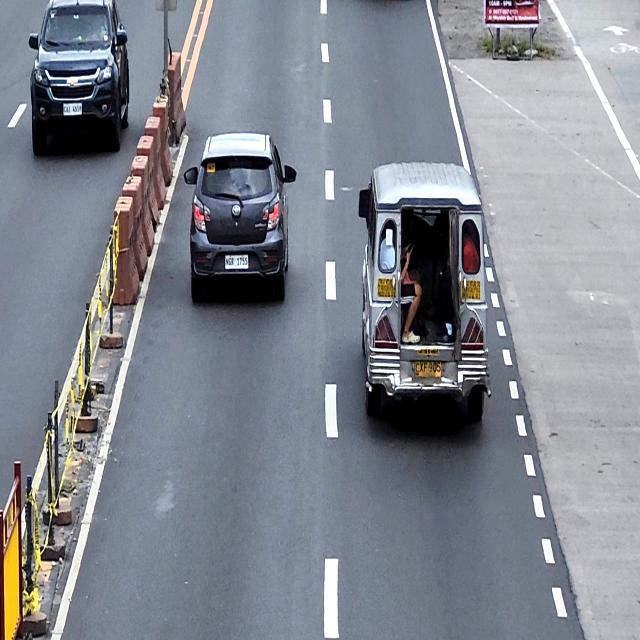Car: (183, 132, 298, 304), (28, 0, 130, 158)
Jeep: (358, 161, 492, 426)
License-Plate: (414, 361, 442, 379), (225, 255, 248, 269), (62, 104, 82, 116)
